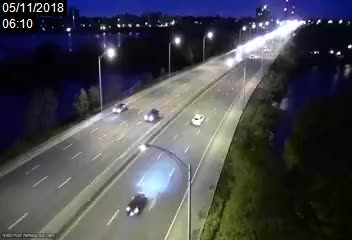personal_car: (122, 190, 148, 217), (143, 107, 160, 123), (190, 111, 205, 127), (111, 103, 130, 115)
